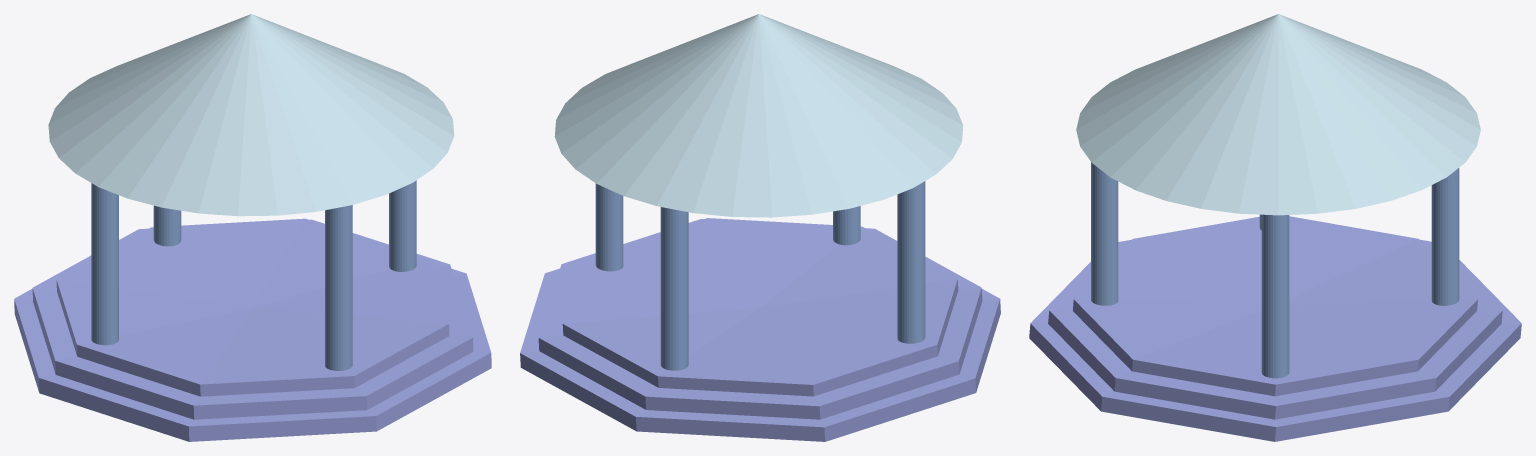
The model's file is gazebo.glb.
The picture shows the model from 3 angles, left to right: view 1: azimuth 30°, elevation 25°; view 2: azimuth 150°, elevation 25°; view 3: azimuth 270°, elevation 25°; orthographic projection.
Parts seen in each view (by area): view 1: Cone, Circle.002, Circle.001, Circle, Cylinder, Cylinder.002, Cylinder.003, Cylinder.001; view 2: Cone, Circle.002, Circle.001, Circle, Cylinder.001, Cylinder.002, Cylinder.003, Cylinder; view 3: Cone, Circle.002, Circle.001, Circle, Cylinder.003, Cylinder, Cylinder.001.
Boxes of the visible parts, x1,y1,x2,y2 form: Cone: [48, 14, 454, 216]; Circle.002: [56, 218, 449, 396]; Circle.001: [32, 219, 473, 419]; Circle: [14, 269, 491, 441]; Cylinder: [325, 205, 352, 370]; Cylinder.002: [91, 183, 118, 345]; Cylinder.003: [389, 180, 416, 271]; Cylinder.001: [153, 205, 181, 246]; Cone: [554, 14, 963, 217]; Circle.002: [562, 218, 958, 396]; Circle.001: [538, 219, 982, 419]; Circle: [520, 268, 1000, 441]; Cylinder.001: [660, 207, 688, 370]; Cylinder.002: [897, 181, 925, 343]; Cylinder.003: [595, 183, 623, 271]; Cylinder: [833, 206, 860, 245]; Cone: [1076, 14, 1480, 215]; Circle.002: [1072, 216, 1477, 396]; Circle.001: [1048, 239, 1502, 419]; Circle: [1029, 260, 1521, 441]; Cylinder.003: [1261, 214, 1289, 378]; Cylinder: [1091, 162, 1118, 305]; Cylinder.001: [1431, 168, 1459, 305].
Size of the model in its own units: 7.08 by 5.15 by 7.1.
